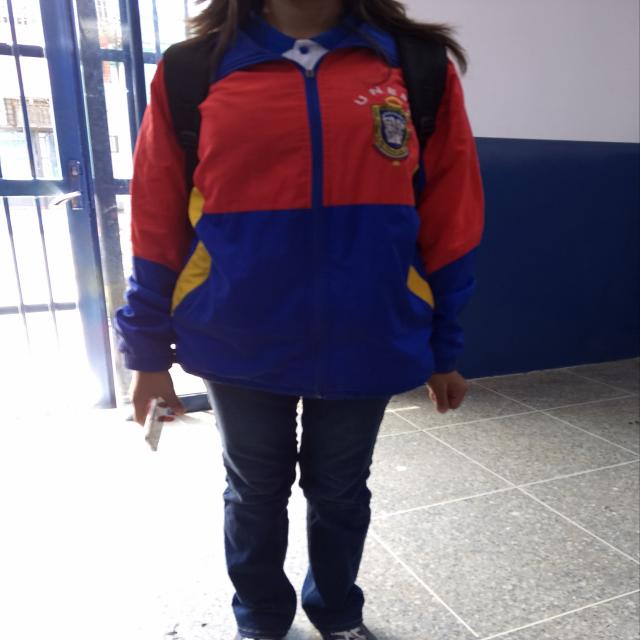chaqueta_unefa: (112, 0, 488, 402)
pantalon_oscuro: (204, 380, 392, 640)
